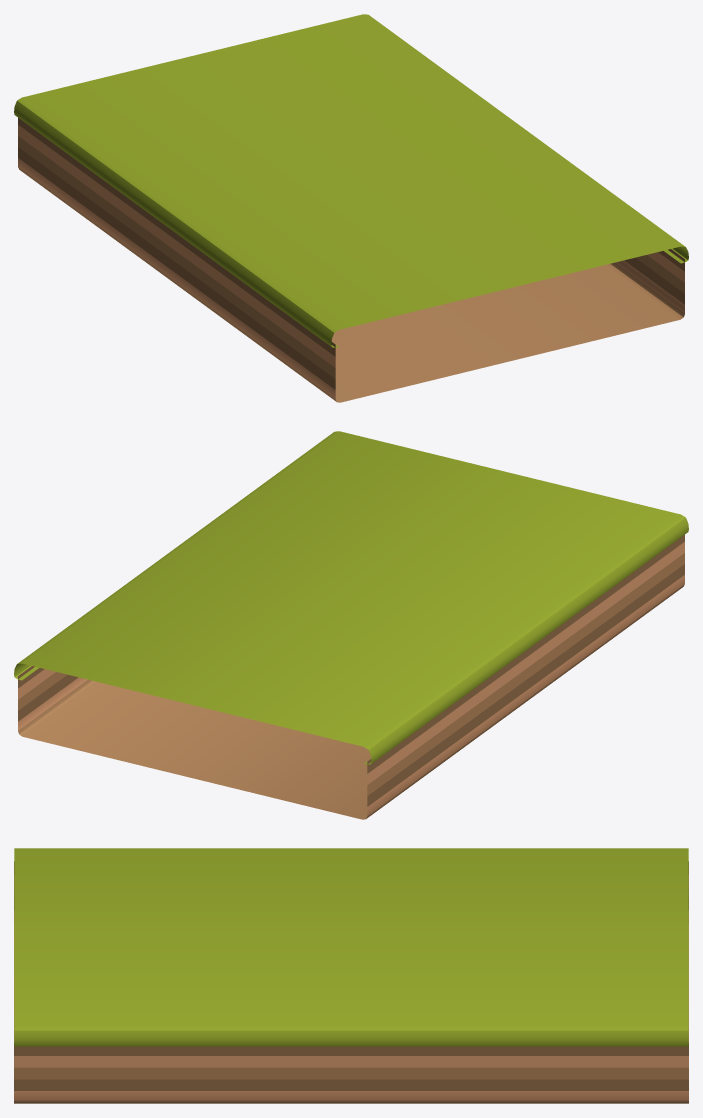
The model's file is Ground_Grass_Mid.fbx.
3 views of the same model, one above another, from view 1: azimuth 30°, elevation 25°; view 2: azimuth 150°, elevation 25°; view 3: azimuth 270°, elevation 25° (orthographic). The views are drawn at different scales.
Visible parts, largest first — view 1: Cube_Grass_Single; view 2: Cube_Grass_Single; view 3: Cube_Grass_Single.
Part boxes in pixels (left/top/right/bottom): Cube_Grass_Single: left=14, top=14, right=688, bottom=402; Cube_Grass_Single: left=14, top=431, right=688, bottom=819; Cube_Grass_Single: left=14, top=848, right=688, bottom=1103.
Bounding box in the file's own units: 1023 × 200 × 1575.
